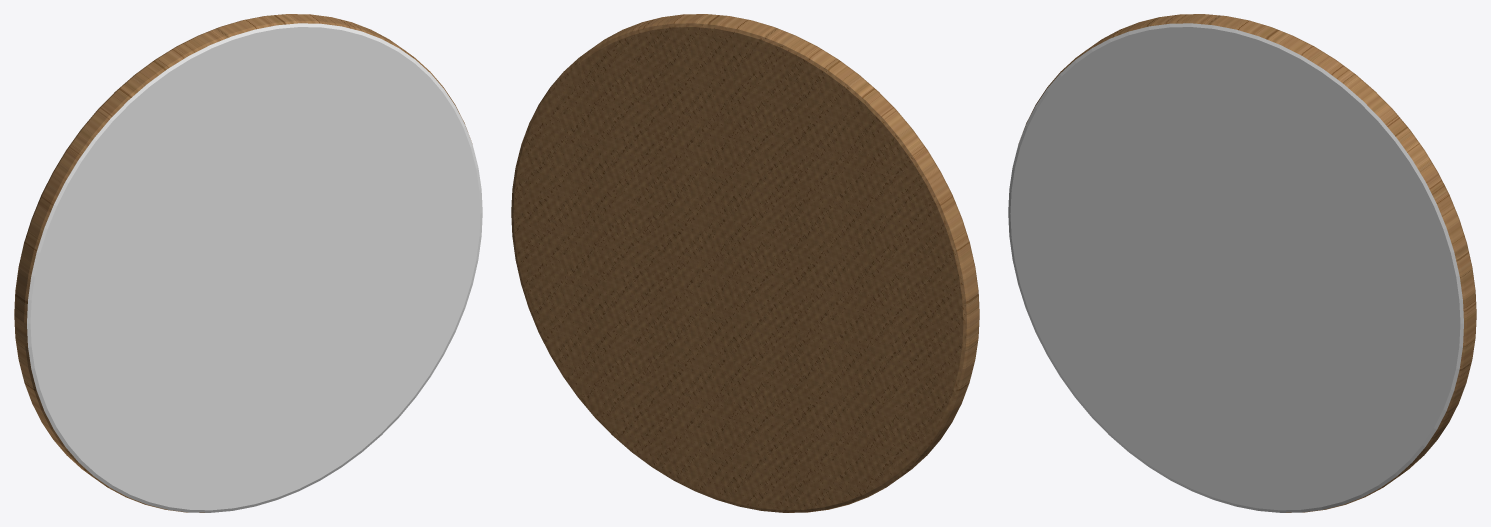
3 views of the same model, side by side, from view 1: azimuth 30°, elevation 25°; view 2: azimuth 150°, elevation 25°; view 3: azimuth 330°, elevation 25° (orthographic).
Visible parts, largest first — view 1: Korkuntersetzer; view 2: Korkuntersetzer; view 3: Korkuntersetzer.
Boxes of the visible parts, left/top/right/bottom form: Korkuntersetzer: left=14, top=14, right=482, bottom=512; Korkuntersetzer: left=511, top=14, right=979, bottom=512; Korkuntersetzer: left=1008, top=14, right=1476, bottom=512.
Bounding box in the file's own units: 0.094 × 0.094 × 0.005.
2 materials, 1 textured.
